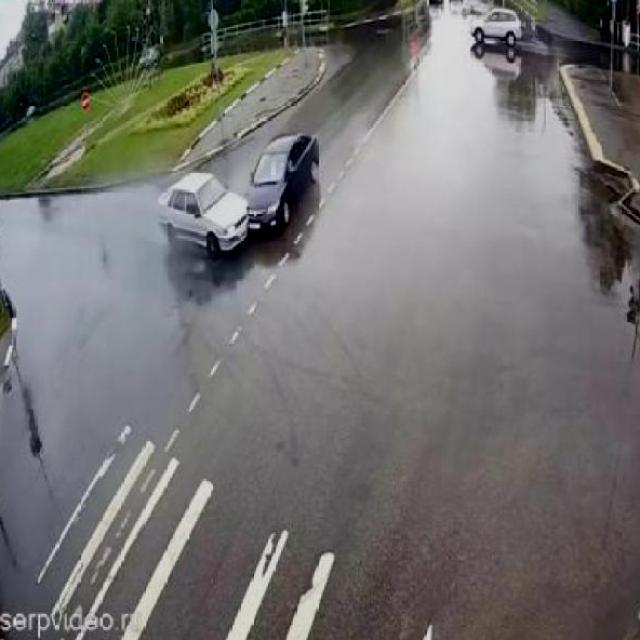accident: (193, 160, 298, 253)
